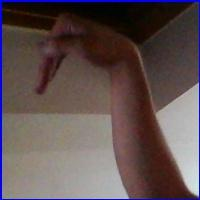del: (32, 15, 140, 102)
